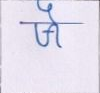ai_matra: (37, 0, 58, 22)
